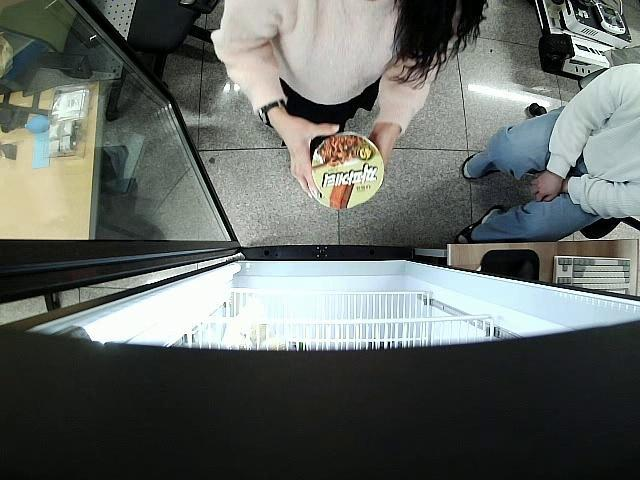03_chapagetti_L: (312, 132, 384, 206)
